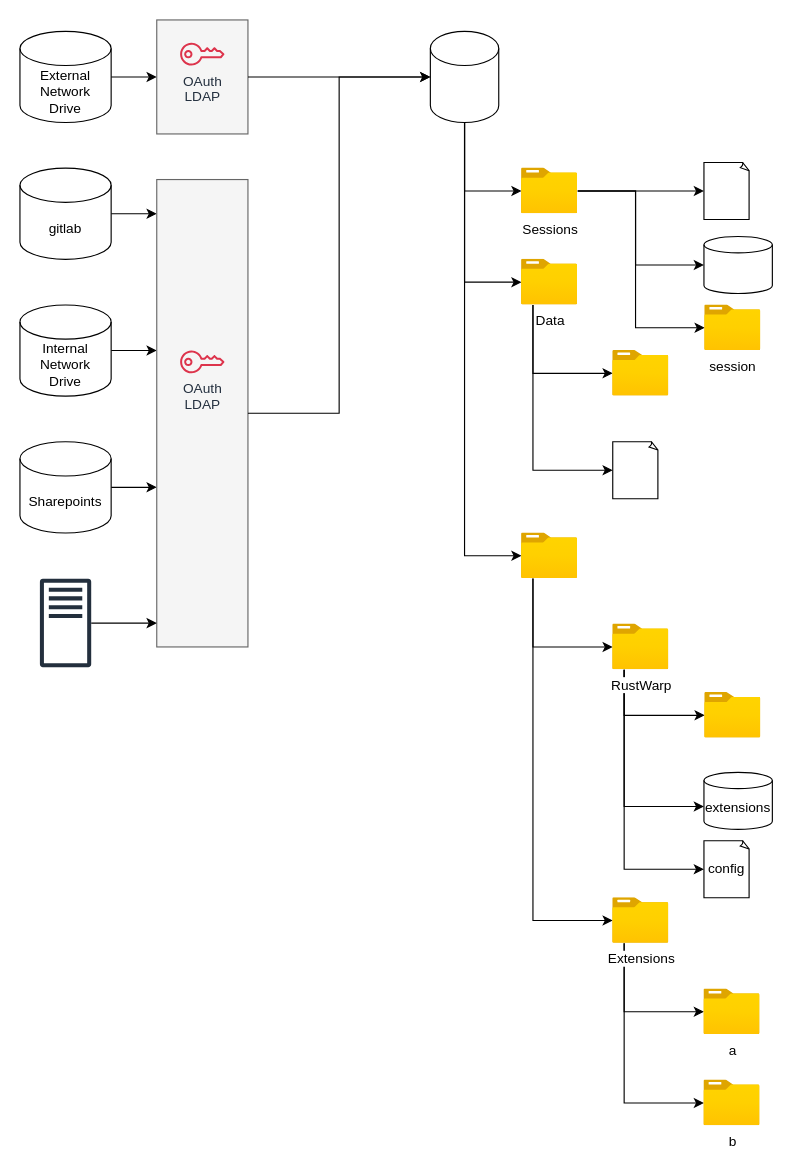
Image size: 792x1170. Some labels were removed from this diagram. Here are the shapes that lost their labels. From the top down, the centre of each, then its label:
At [464,76]: "User AppLocal Data".
At [726,190]: "login".
At [737,264]: "indexer".
At [640,373]: "encrypted".
At [635,470]: "item".
At [549,555]: "App".
At [65,622]: "Jenkins".
At [732,715]: "vXXX".
